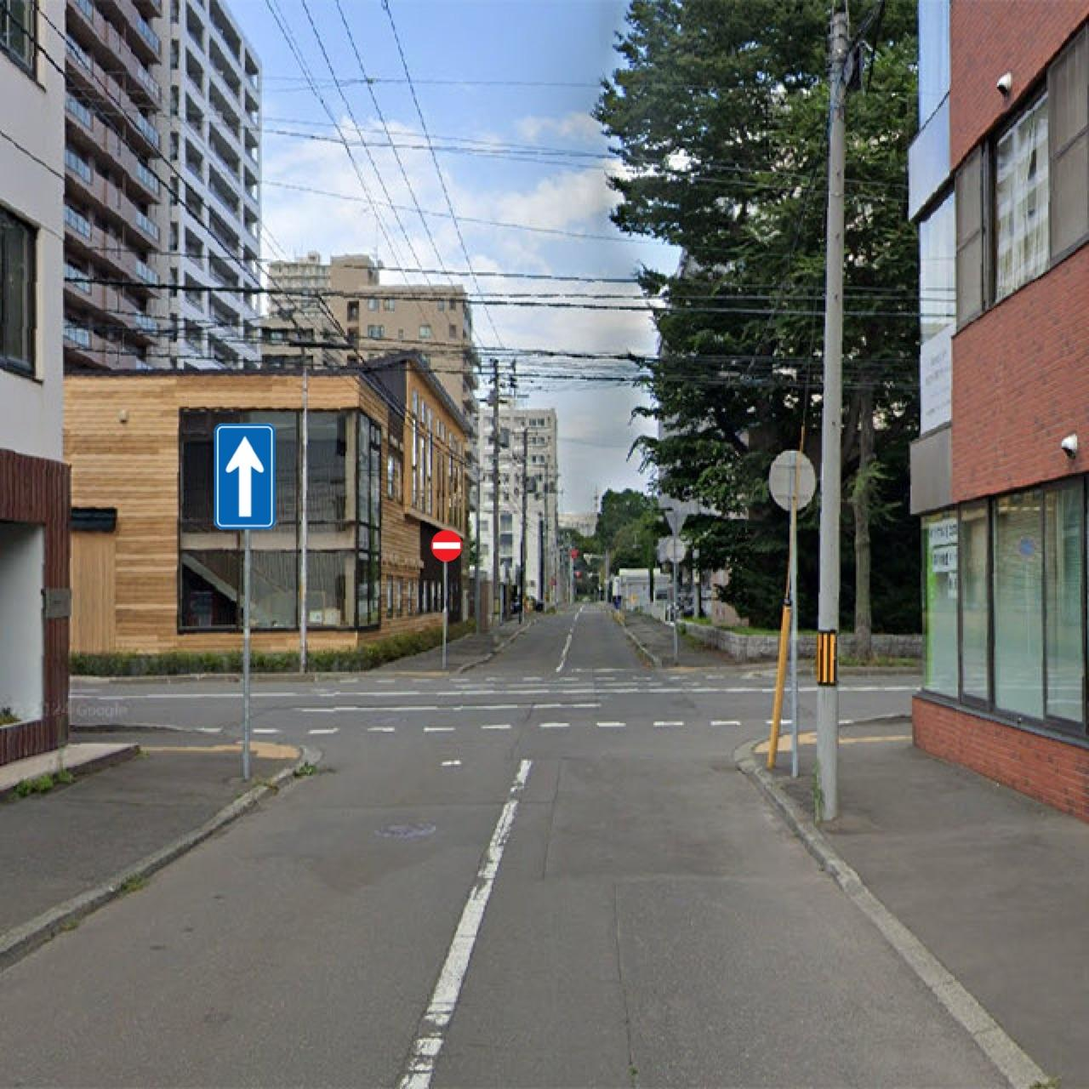barrier: (428, 522, 465, 565)
